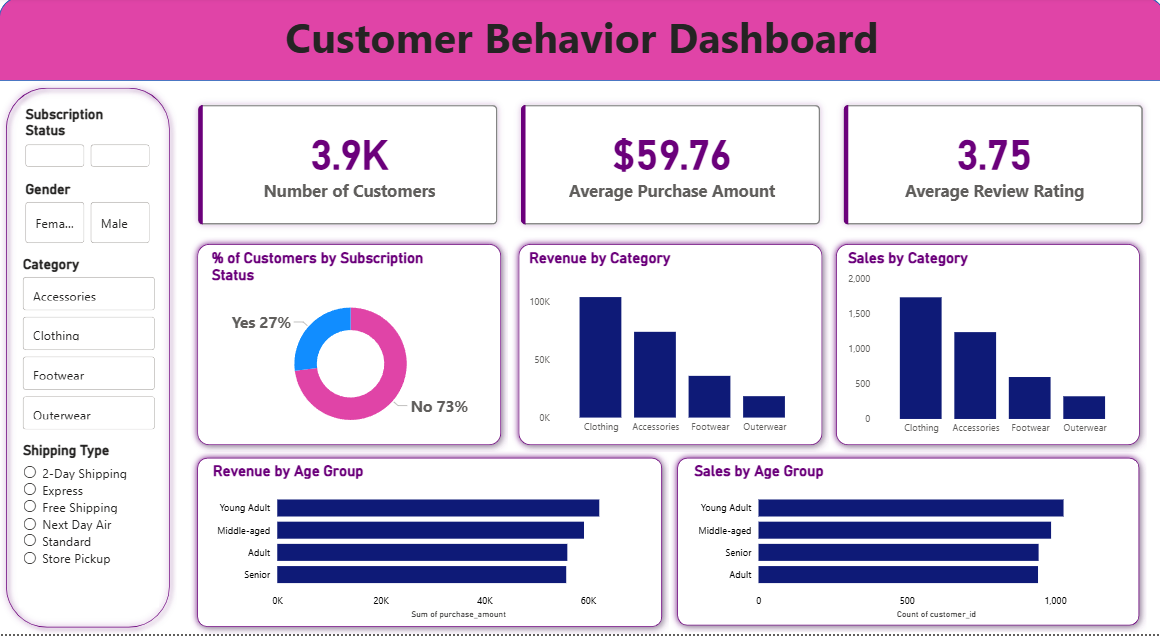

Layout of this report page (visuals, bound fields, positions):
{"tool":"powerbi","page":{"name":"Page 1","canvas":[1500,820],"ordinal":0},"visuals":[{"type":"cardVisual","fields":{"Data":["public customer.Number of Customers","public customer.Average Purchase Amount","public customer.Average Review Rating"]},"box":[228.6,110.7,1271.4,210.7],"z":0},{"type":"shape","box":[0,0,1500.3,107.7],"z":1000},{"type":"textbox","box":[0,9.6,1500.3,98.1],"z":2000},{"type":"shape","box":[246.4,308.9,408.9,276.8],"z":3000},{"type":"shape","box":[658.9,308.9,408.9,276.8],"z":4000},{"type":"shape","box":[1067.9,308.9,408.9,276.8],"z":5000},{"type":"donutChart","title":"% of Customers by Subscription Status","fields":{"Category":["public customer.subscription_status"],"Y":["CountNonNull(public customer.customer_id)"]},"box":[267.9,325,367.9,246.4],"z":6000},{"type":"clusteredColumnChart","title":"Revenue by Category","fields":{"Y":["Sum(public customer.purchase_amount)"],"Category":["public customer.category"]},"box":[676.8,325,369.6,246.4],"z":7000},{"type":"clusteredColumnChart","title":"Sales by Category","fields":{"Category":["public customer.category"],"Y":["CountNonNull(public customer.customer_id)"]},"box":[1087.5,325,371.4,248.2],"z":8000},{"type":"shape","box":[0,107.1,228.6,712.5],"z":9000},{"type":"advancedSlicerVisual","fields":{"Values":["public customer.subscription_status"]},"box":[28.6,139.3,171.4,83.9],"z":10000},{"type":"advancedSlicerVisual","fields":{"Values":["public customer.gender"]},"box":[28.6,235.7,171.4,85.7],"z":11000},{"type":"advancedSlicerVisual","fields":{"Values":["public customer.category"]},"box":[25,332.1,180.4,230.4],"z":12000},{"type":"listSlicer","fields":{"Values":["public customer.shipping_type"]},"box":[25,573.2,180.4,212.5],"z":13000},{"type":"shape","box":[246.4,583.9,616.1,235.7],"z":14000},{"type":"clusteredBarChart","title":"Revenue by Age Group","fields":{"Y":["Sum(public customer.purchase_amount)"],"Category":["public customer.age_group"]},"box":[269.6,598.2,569.6,207.1],"z":15000},{"type":"shape","box":[864.3,583.9,612.5,233.9],"z":15001},{"type":"clusteredBarChart","title":"Sales by Age Group","fields":{"Y":["CountNonNull(public customer.customer_id)"],"Category":["public customer.age_group"]},"box":[889.3,598.2,566.1,207.1],"z":15002}]}

Visuals, with their boxes in screenshot pixels (x1, y1, x2, y2), scaled from the page's 1500x820 canvas onto the 1160x636 screenshot:
cardVisual - public customer.Number of Customers x public customer.Average Purchase Amount: bbox=(177, 86, 1159, 249)
shape: bbox=(0, 0, 1159, 84)
textbox: bbox=(0, 7, 1159, 84)
shape: bbox=(191, 240, 507, 454)
shape: bbox=(510, 240, 826, 454)
shape: bbox=(826, 240, 1142, 454)
"% of Customers by Subscription Status" donutChart: bbox=(207, 252, 492, 443)
"Revenue by Category" clusteredColumnChart: bbox=(523, 252, 809, 443)
"Sales by Category" clusteredColumnChart: bbox=(841, 252, 1128, 445)
shape: bbox=(0, 83, 177, 635)
advancedSlicerVisual - public customer.subscription_status: bbox=(22, 108, 155, 173)
advancedSlicerVisual - public customer.gender: bbox=(22, 183, 155, 249)
advancedSlicerVisual - public customer.category: bbox=(19, 258, 159, 436)
listSlicer - public customer.shipping_type: bbox=(19, 445, 159, 609)
shape: bbox=(191, 453, 667, 635)
"Revenue by Age Group" clusteredBarChart: bbox=(208, 464, 649, 625)
shape: bbox=(668, 453, 1142, 634)
"Sales by Age Group" clusteredBarChart: bbox=(688, 464, 1126, 625)
